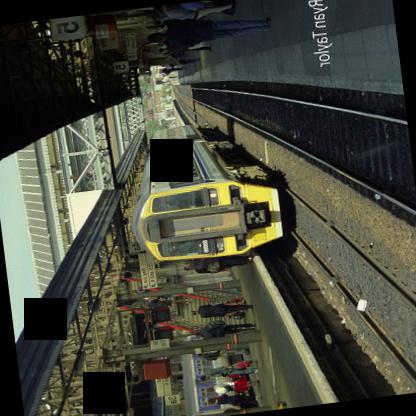backpack: (203, 318, 227, 327), (162, 69, 170, 73)
handbag: (192, 260, 219, 271), (224, 383, 234, 391), (229, 402, 238, 404)
suitcase: (227, 310, 246, 319)
